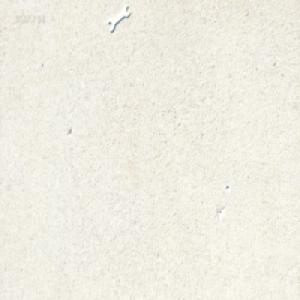Wrench: (108, 0, 130, 32)
